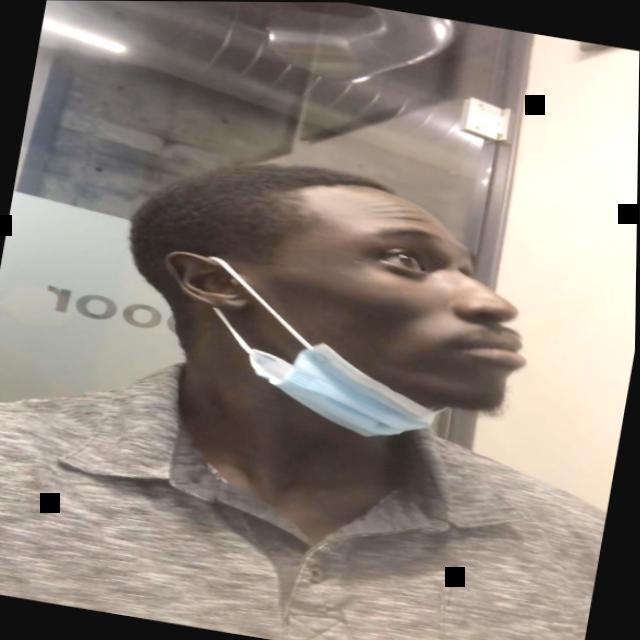NO-Mask: (150, 166, 553, 420)
